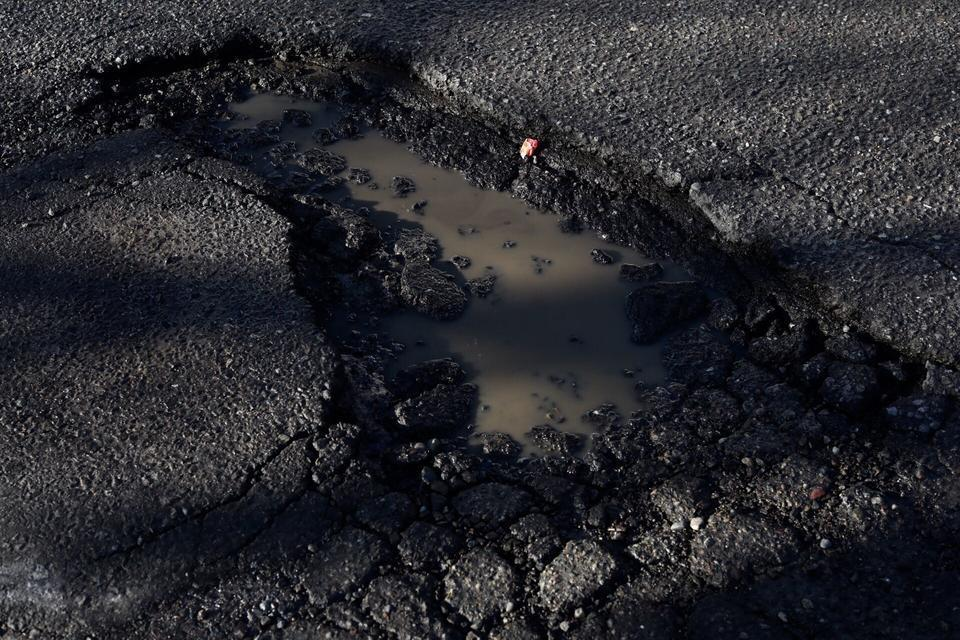pothole: (85, 32, 796, 488)
